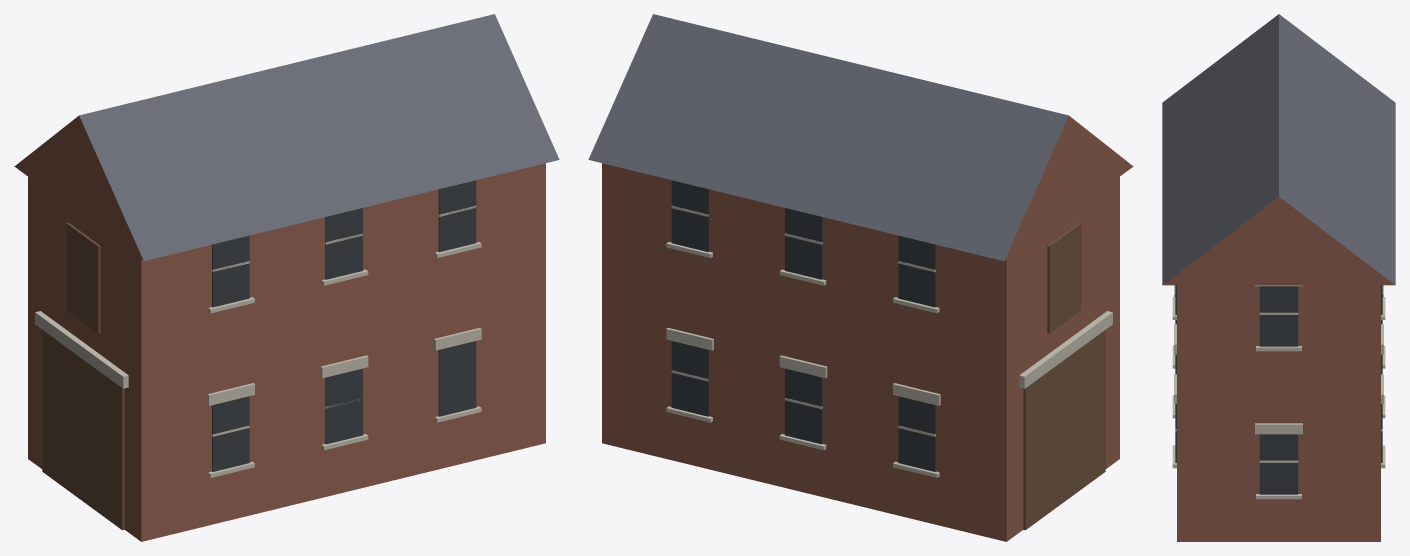
Rendered from reid_house_2013_prairie_coach_house__draft_1904.glb.
The picture shows the model from 3 angles, left to right: view 1: azimuth 30°, elevation 25°; view 2: azimuth 150°, elevation 25°; view 3: azimuth 270°, elevation 25°; orthographic projection. The views are drawn at different scales.
Visible parts, largest first — view 1: reid_house_2013_prairie_coach_house__draft_1904; view 2: reid_house_2013_prairie_coach_house__draft_1904; view 3: reid_house_2013_prairie_coach_house__draft_1904.
Part boxes in pixels (x1,y1,x2,y2): reid_house_2013_prairie_coach_house__draft_1904: [14, 14, 559, 541]; reid_house_2013_prairie_coach_house__draft_1904: [588, 14, 1133, 541]; reid_house_2013_prairie_coach_house__draft_1904: [1162, 14, 1395, 541].
Size of the model in its own units: 8.99 by 7.98 by 4.85.
